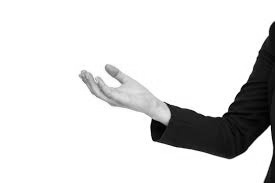pointing_gesture: (75, 63, 163, 118)
